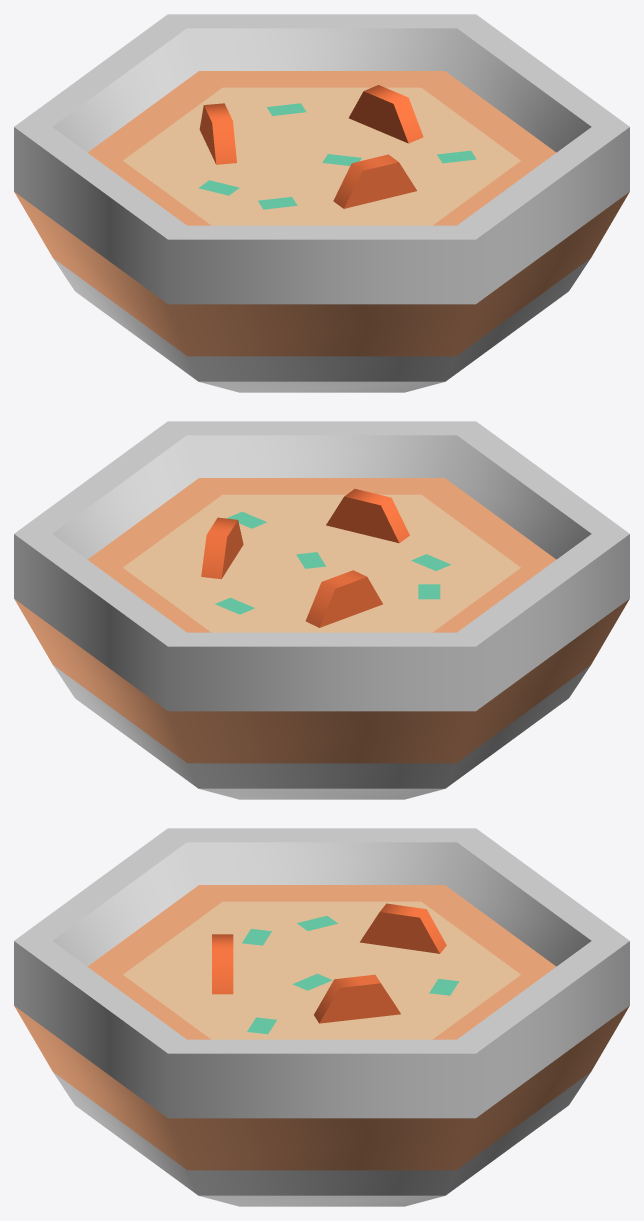
File: bowlSoup.GLB
The picture shows the model from 3 angles, top to bottom: view 1: azimuth 30°, elevation 25°; view 2: azimuth 150°, elevation 25°; view 3: azimuth 270°, elevation 25°; orthographic projection.
Visible parts, largest first — view 1: bowlSoup; view 2: bowlSoup; view 3: bowlSoup.
Boxes of the visible parts, x1,y1,x2,y2 form: bowlSoup: (14, 14, 629, 392); bowlSoup: (14, 421, 629, 799); bowlSoup: (14, 828, 629, 1206).
Bounding box in the file's own units: 0.5022 × 0.2138 × 0.5798.
